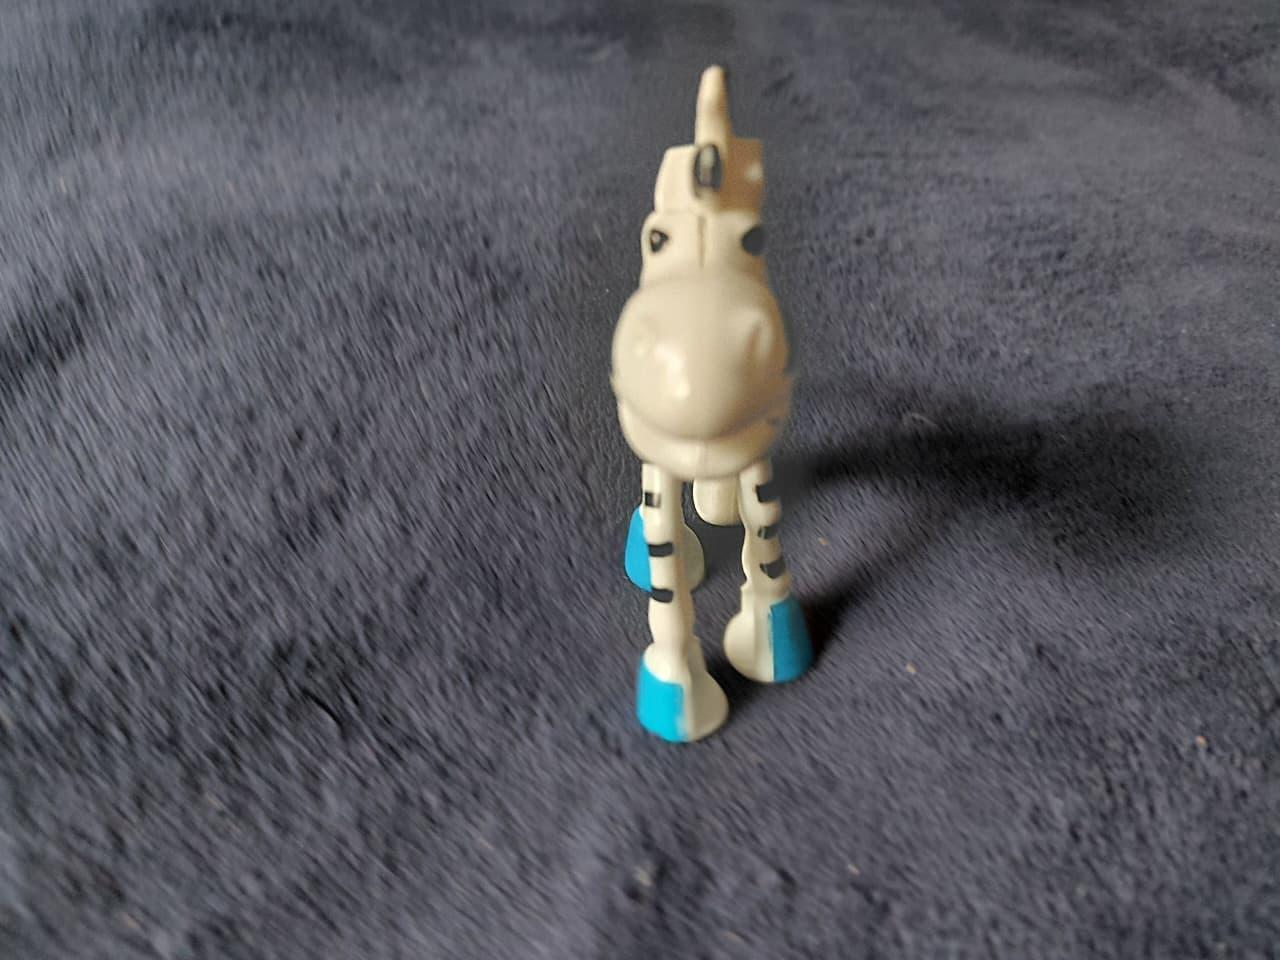zebra: (564, 52, 867, 773)
